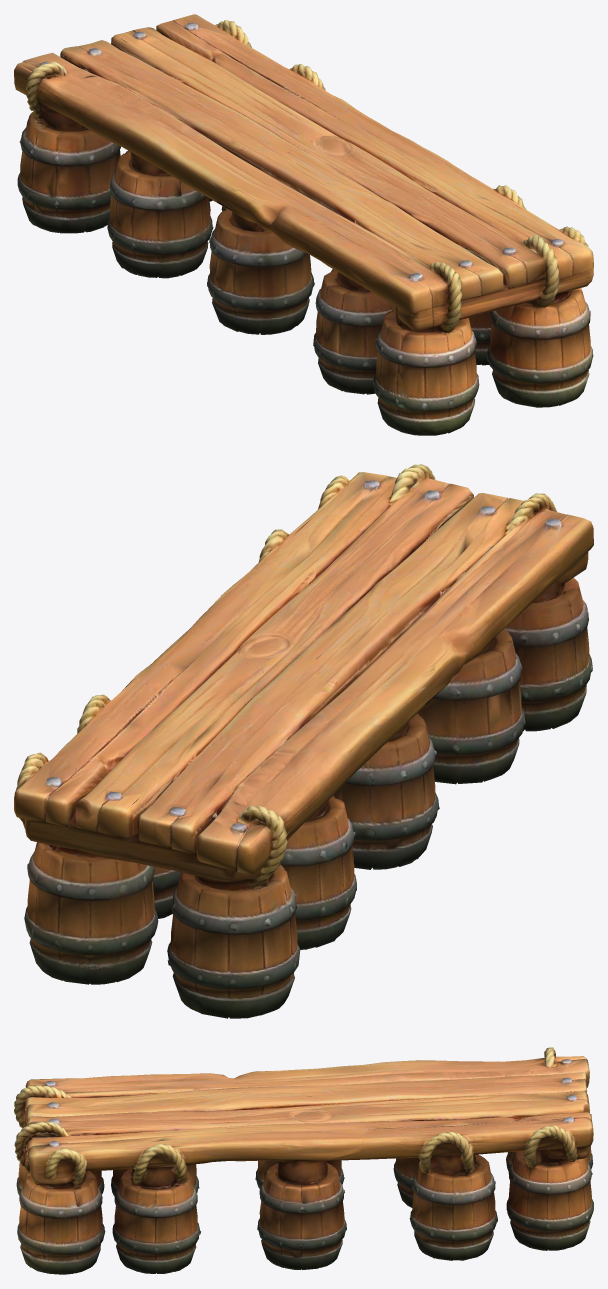
The model's file is plat_uzun.glb.
3 renders of one model, top to bottom at view 1: azimuth 30°, elevation 25°; view 2: azimuth 150°, elevation 25°; view 3: azimuth 270°, elevation 25°, orthographic. The views are drawn at different scales.
Visible parts, largest first — view 1: tripo_node_84e75d85-dc74-4d4c-aea9-40fa3669128e; view 2: tripo_node_84e75d85-dc74-4d4c-aea9-40fa3669128e; view 3: tripo_node_84e75d85-dc74-4d4c-aea9-40fa3669128e.
Part boxes in pixels (x1=…): tripo_node_84e75d85-dc74-4d4c-aea9-40fa3669128e: x1=14, y1=14, x2=593, y2=435; tripo_node_84e75d85-dc74-4d4c-aea9-40fa3669128e: x1=14, y1=464, x2=593, y2=1018; tripo_node_84e75d85-dc74-4d4c-aea9-40fa3669128e: x1=14, y1=1047, x2=593, y2=1274.
Size of the model in its own units: 0.4306 by 0.2492 by 0.9785.
1 material, 1 textured.
